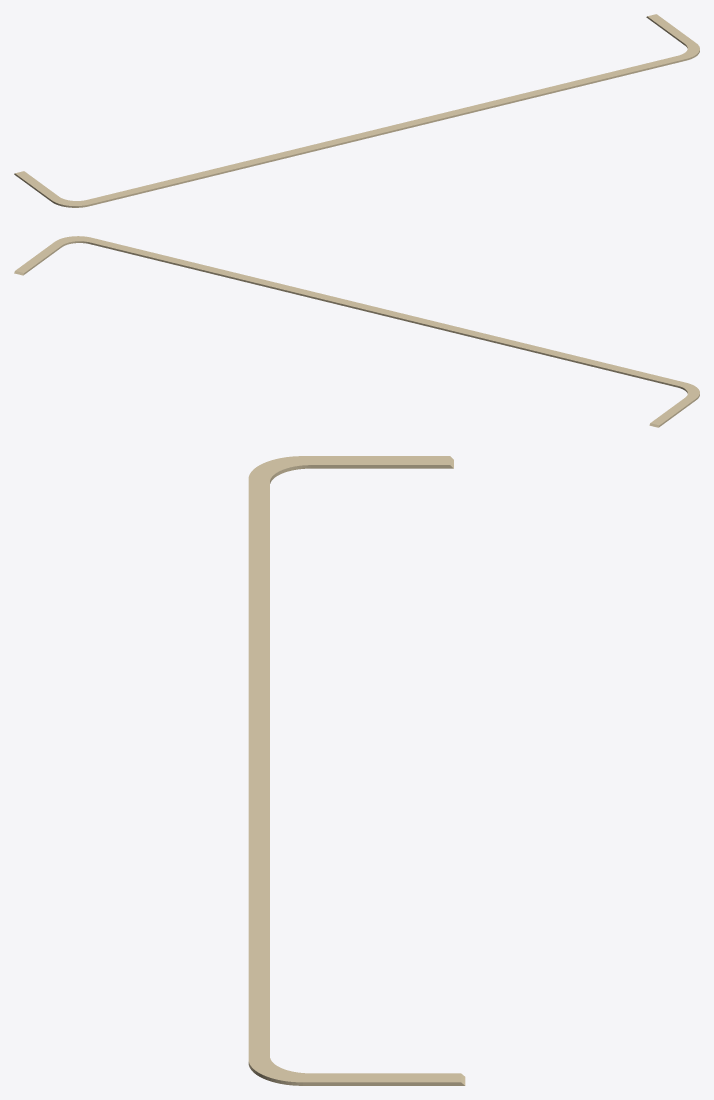
File: pan-side-gasket-1.glb
3 renders of one model, top to bottom at view 1: azimuth 30°, elevation 25°; view 2: azimuth 150°, elevation 25°; view 3: azimuth 270°, elevation 25°, orthographic. The views are drawn at different scales.
Visible parts, largest first — view 1: world; view 2: world; view 3: world.
Part boxes in pixels (x1,y1,x2,y2): world: (14,14,699,207); world: (14,236,699,427); world: (248,456,465,1085).
Bounding box in the file's own units: 0.762 × 0.002 × 0.1115.
